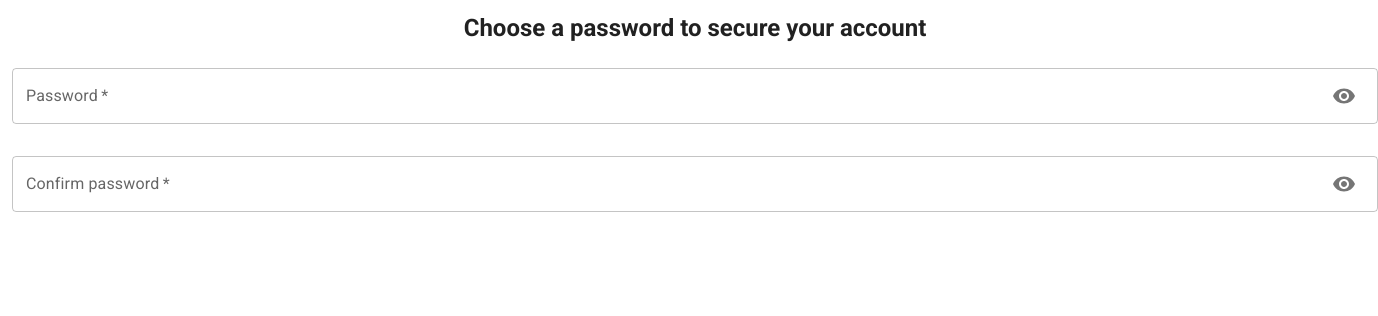
AccountSecurityStep › should show an error if password is missing number
Type "JohnDoe!" into the password field labelled "Password *".
click(664, 96); type("JohnDoe!")  # box [12,68,1316,124]
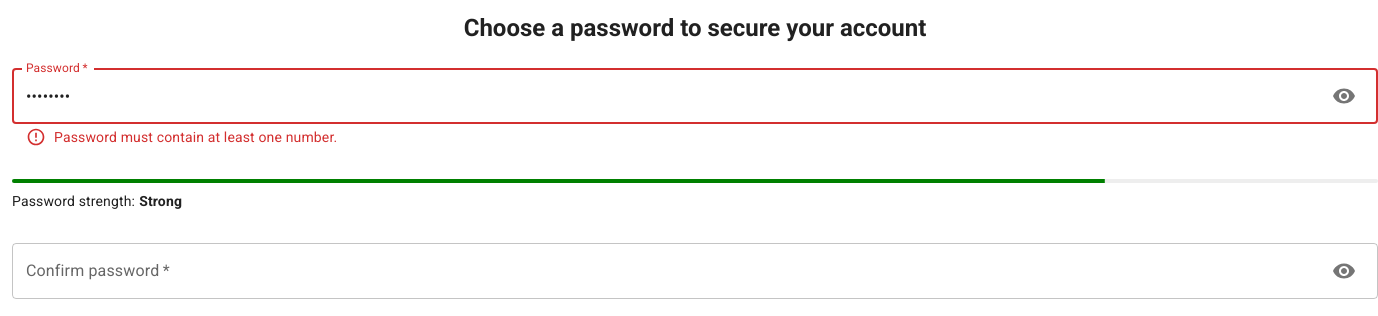
Check: the message shows "one number", box [54,129,337,145]
